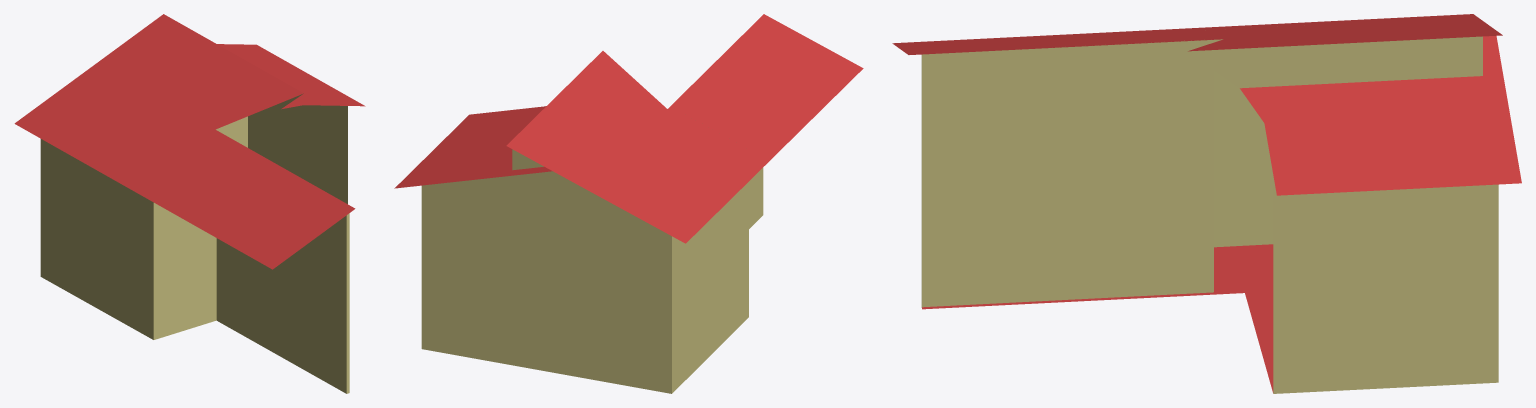
3 renders of one model, left to right at view 1: azimuth 30°, elevation 25°; view 2: azimuth 150°, elevation 25°; view 3: azimuth 270°, elevation 25°, orthographic. The views are drawn at different scales.
Bounding box in the file's own units: 11.24 × 16.18 × 8.29.
